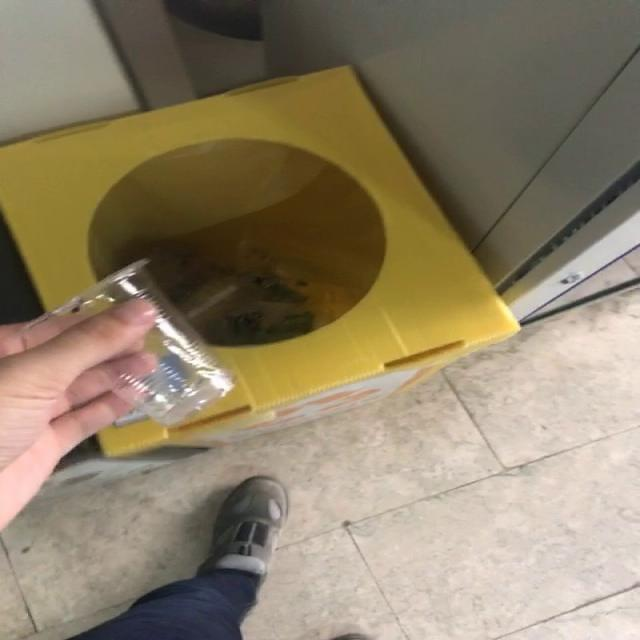plastic: (28, 259, 233, 428)
